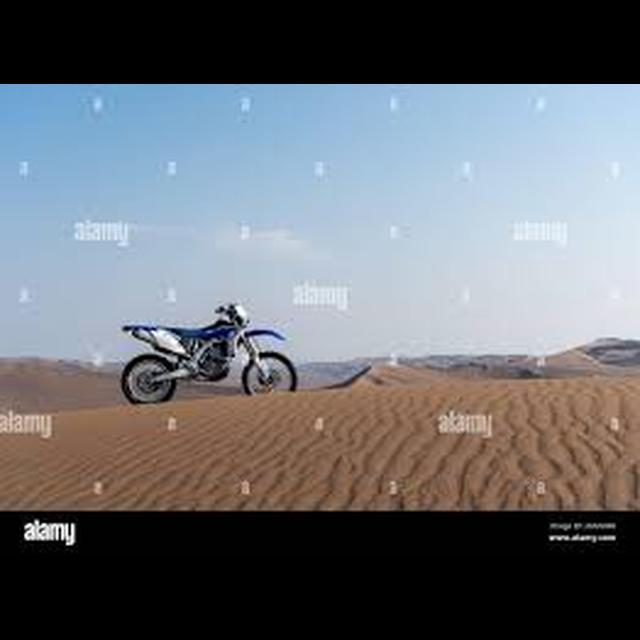motorcycle: (115, 295, 303, 408)
